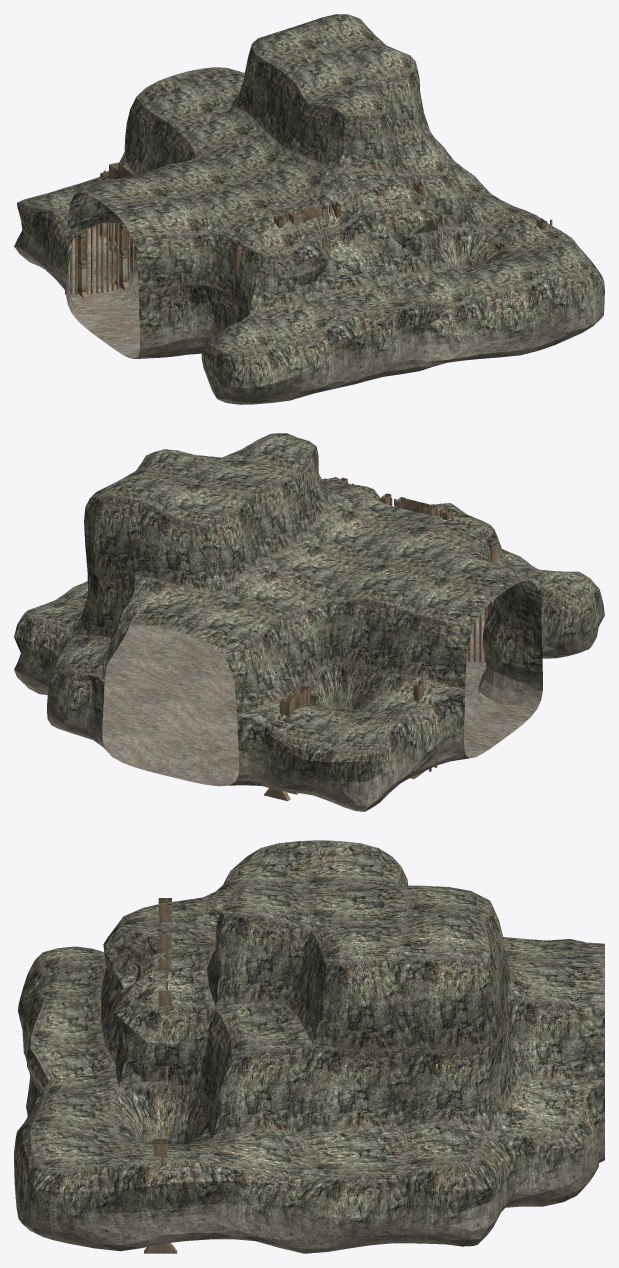
Rendered from poi_all_bunker_mad_bio_s01_r39_cavecages4_mesh_r39.fbx.
3 renders of one model, top to bottom at view 1: azimuth 30°, elevation 25°; view 2: azimuth 150°, elevation 25°; view 3: azimuth 270°, elevation 25°, orthographic. The views are drawn at different scales.
Parts seen in each view (by area): view 1: mesh_node; view 2: mesh_node; view 3: mesh_node.
Boxes of the visible parts, <box> form: mesh_node: <box>14,14,604,404</box>; mesh_node: <box>14,433,604,811</box>; mesh_node: <box>14,840,604,1253</box>.
Bounding box in the file's own units: 48.19 × 25.58 × 49.7.
